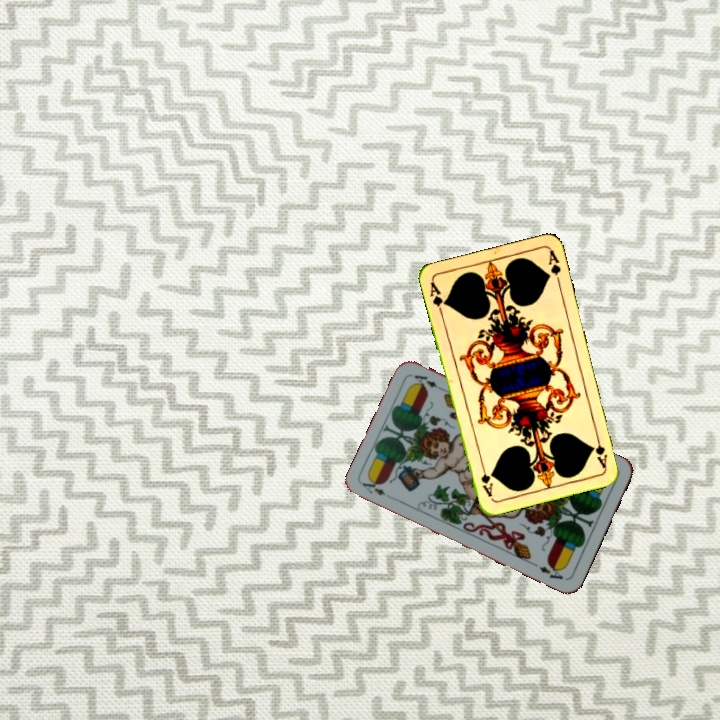EA: (358, 476, 388, 498)
GA: (426, 278, 449, 318), (590, 430, 610, 471)
